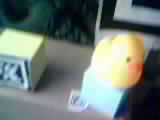duck: (90, 21, 143, 98)
